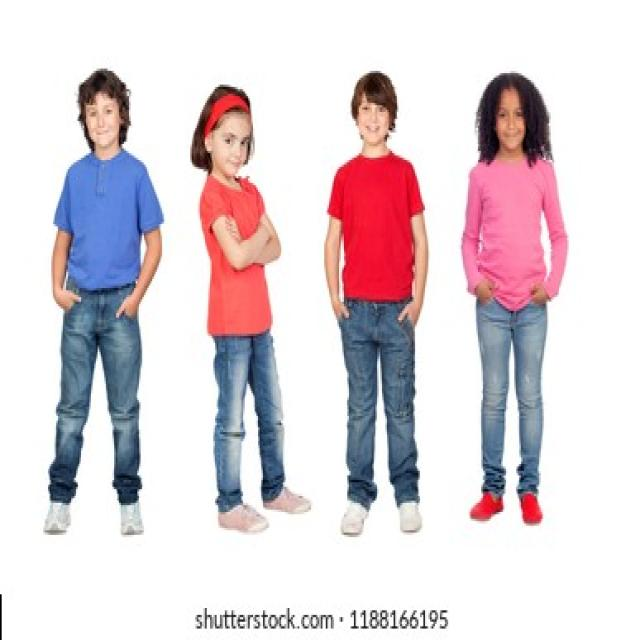child: (180, 69, 318, 544), (33, 64, 170, 539), (311, 64, 448, 539), (450, 69, 587, 544)
